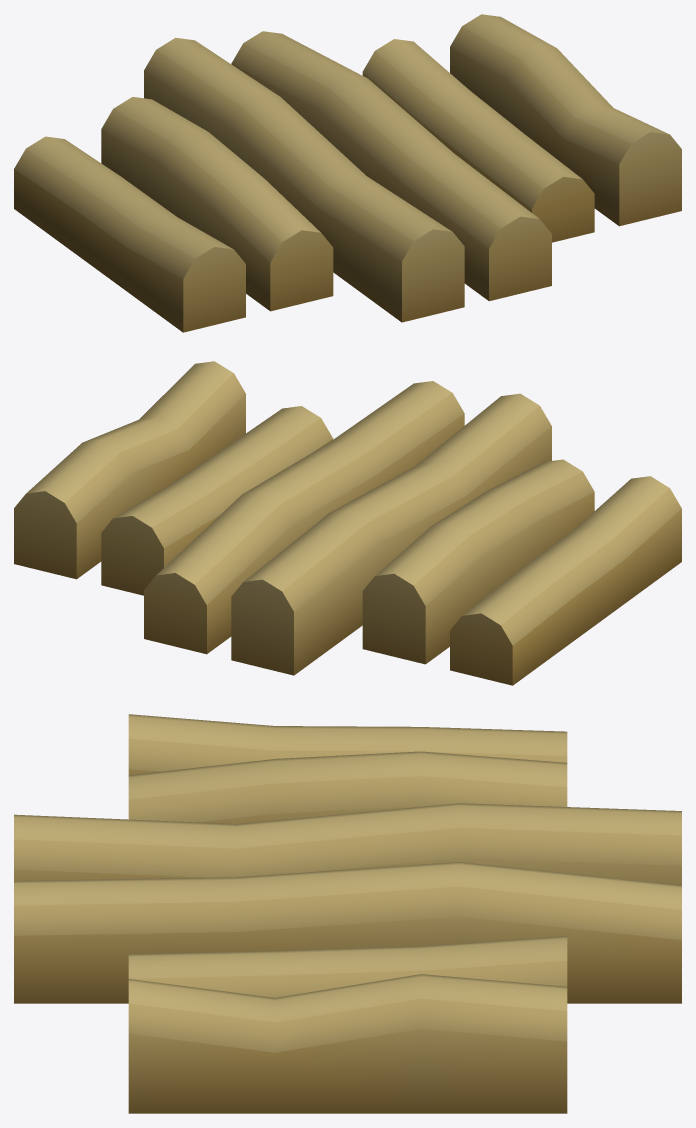
File: field_ripe.glb
3 views of the same model, one above another, from view 1: azimuth 30°, elevation 25°; view 2: azimuth 150°, elevation 25°; view 3: azimuth 270°, elevation 25° (orthographic). The views are drawn at different scales.
Parts seen in each view (by area): view 1: field_ripe; view 2: field_ripe; view 3: field_ripe.
Part boxes in pixels (x1,y1,x2,y2): field_ripe: (14,14,681,332); field_ripe: (14,361,681,685); field_ripe: (14,714,681,1113).
Size of the model in its own units: 0.715 by 0.1295 by 0.64.
